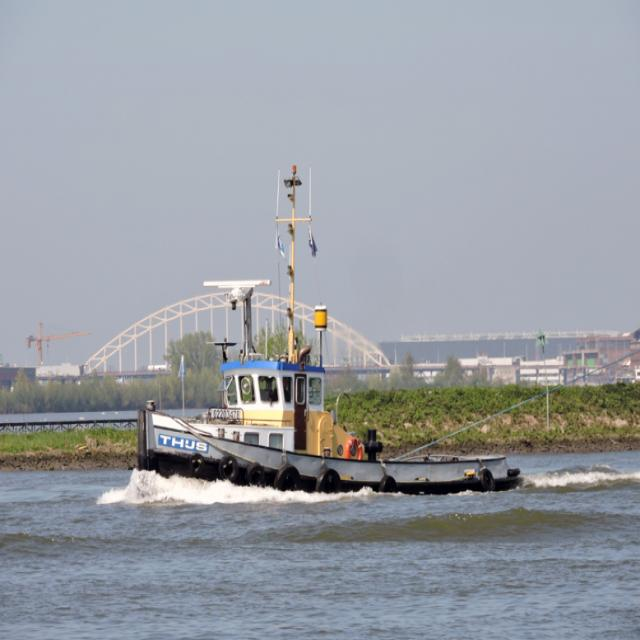tugboat: (134, 162, 528, 506)
